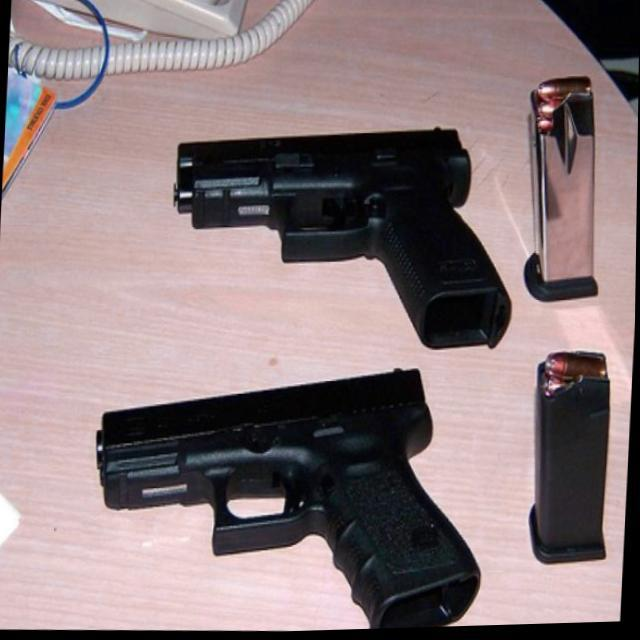weapon: (87, 353, 490, 638), (160, 120, 522, 360)
